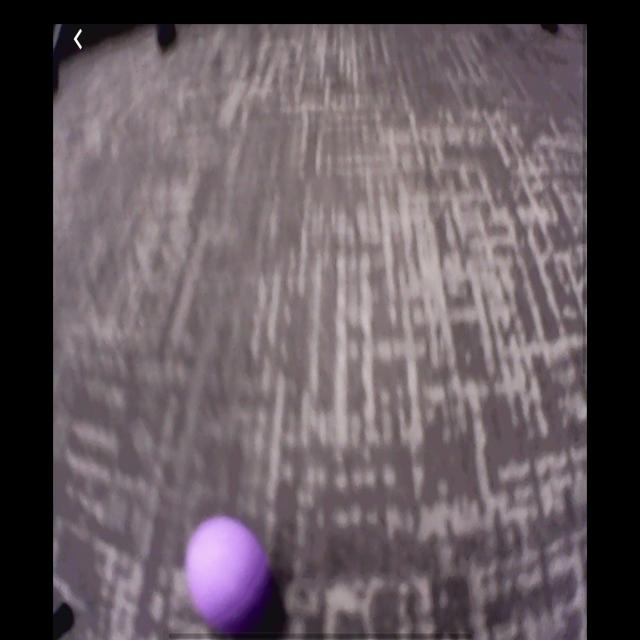ball: (188, 520, 264, 631)
